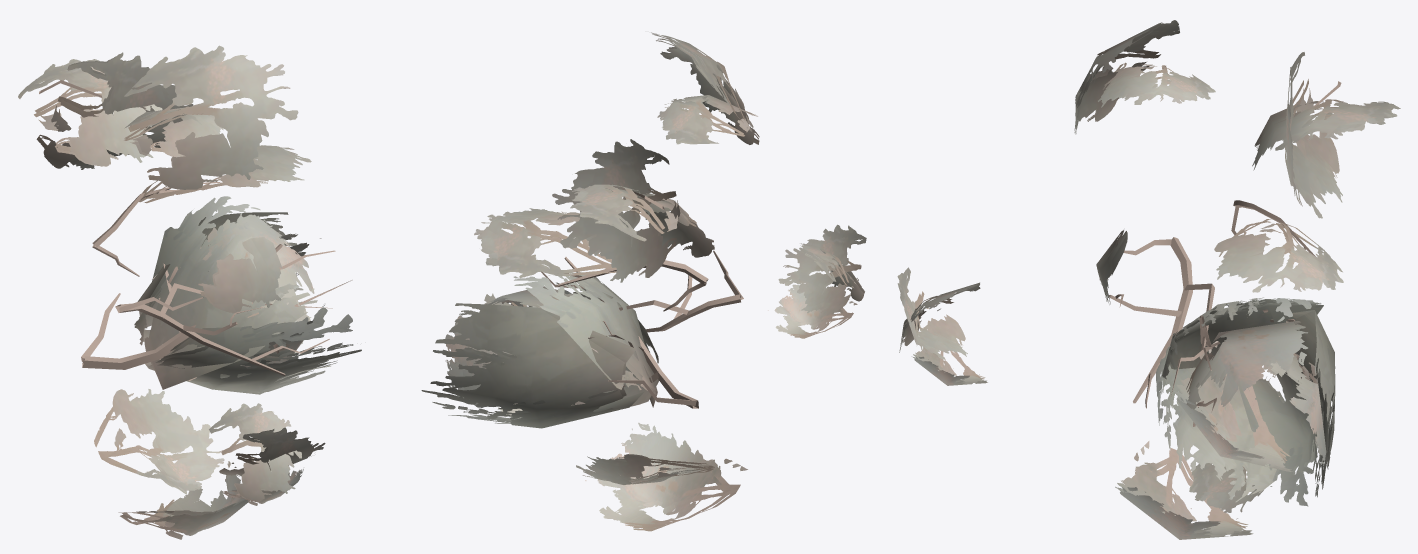
File: props_foliage_shrub_03_cluster02.glb
The picture shows the model from 3 angles, left to right: view 1: azimuth 30°, elevation 25°; view 2: azimuth 150°, elevation 25°; view 3: azimuth 270°, elevation 25°; orthographic projection. The views are drawn at different scales.
Parts seen in each view (by area): view 1: models/props_foliage/shrub_03_cluster02; view 2: models/props_foliage/shrub_03_cluster02; view 3: models/props_foliage/shrub_03_cluster02.
Part boxes in pixels (box(x1,y1,x2,y2)): models/props_foliage/shrub_03_cluster02: box(18, 45, 361, 539); models/props_foliage/shrub_03_cluster02: box(421, 32, 866, 531); models/props_foliage/shrub_03_cluster02: box(897, 20, 1400, 539).
Bounding box in the file's own units: 39.75 × 68.42 × 59.61.
1 material, 1 textured.
